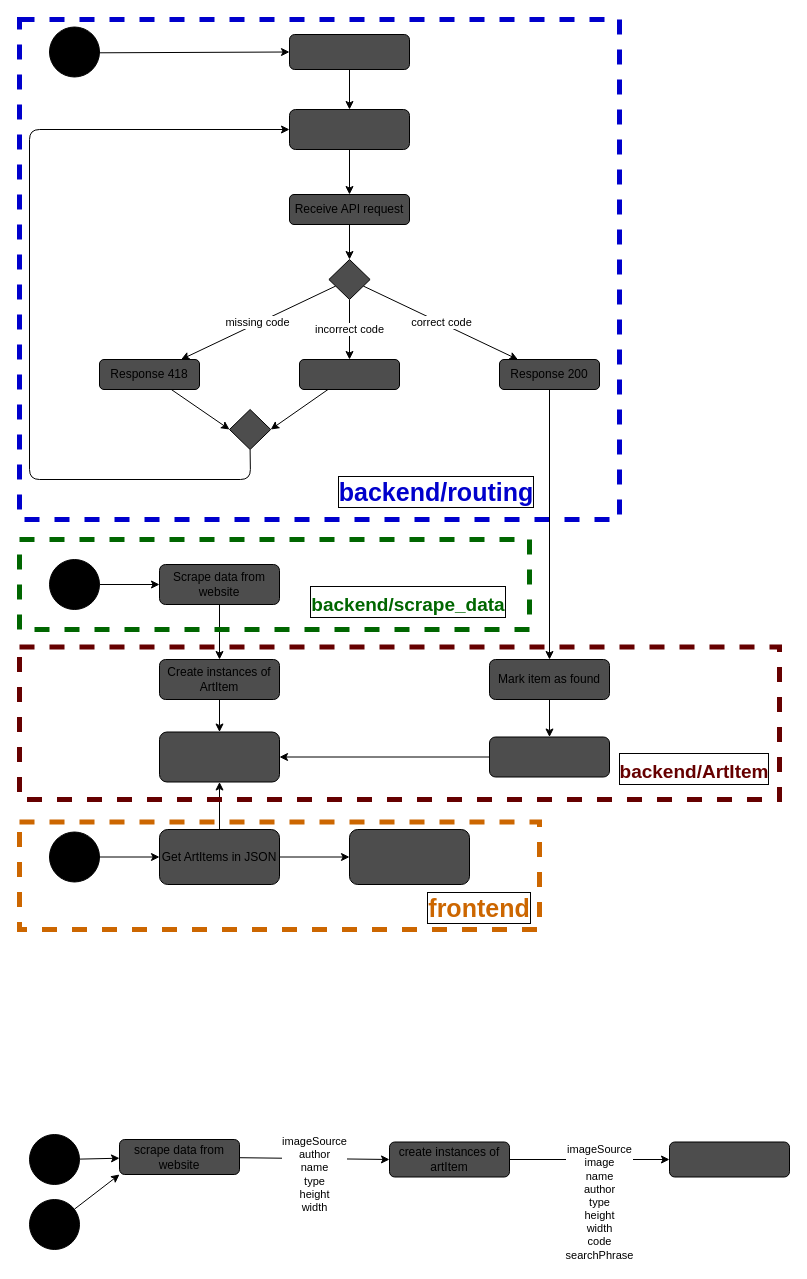
The diagram is 807 pixels wide and 1279 high, and some of its shapes have lost their labels. The centre of each missing label's shape, as x and y in pixels:
"Display ArtItems" belongs at (409,856).
"Export ArtItems to JSON" belongs at (219,756).
"Listen for API requests" belongs at (349,129).
"persist instances into a database" belongs at (729,1159).
"Response 400" belongs at (349,374).
"Start server" belongs at (349,52).
"Update ArtItem" belongs at (549,756).
